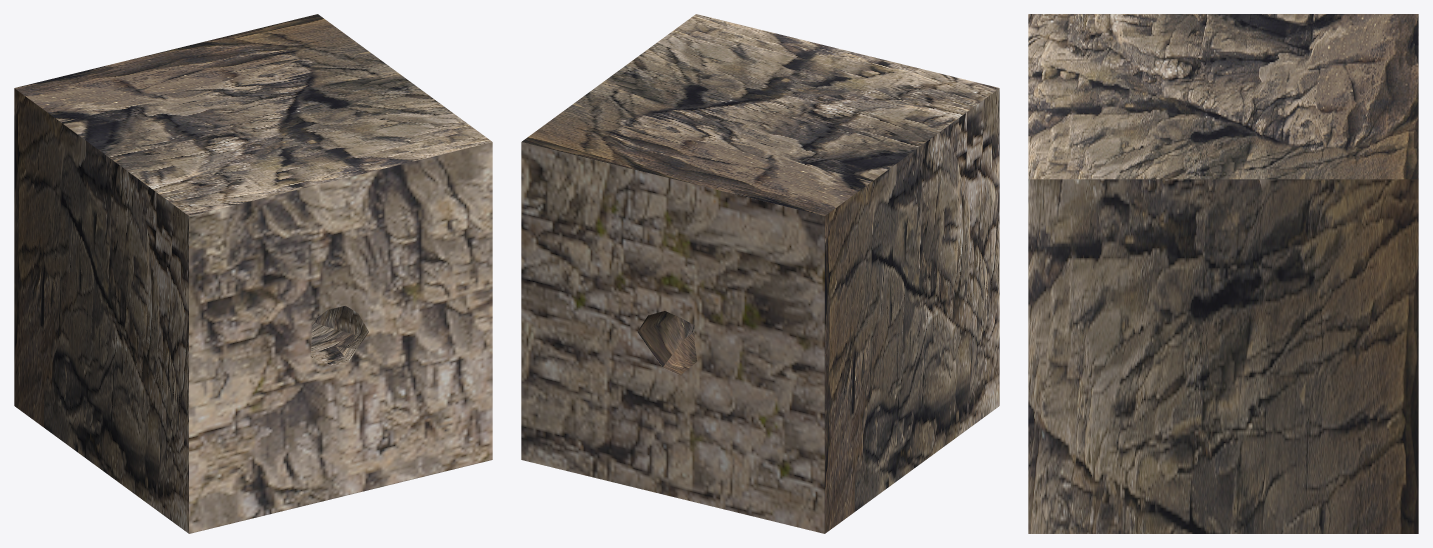
The model's file is tunnel_block_1_1.obj.
The picture shows the model from 3 angles, left to right: view 1: azimuth 30°, elevation 25°; view 2: azimuth 150°, elevation 25°; view 3: azimuth 270°, elevation 25°; orthographic projection. The views are drawn at different scales.
Parts seen in each view (by area): view 1: Box001.001; view 2: Box001.001; view 3: Box001.001.
Boxes of the visible parts, bbox=[...] form: Box001.001: bbox=[14, 14, 492, 533]; Box001.001: bbox=[521, 14, 999, 533]; Box001.001: bbox=[1028, 14, 1418, 533].
Size of the model in its own units: 100 by 100 by 99.82.
